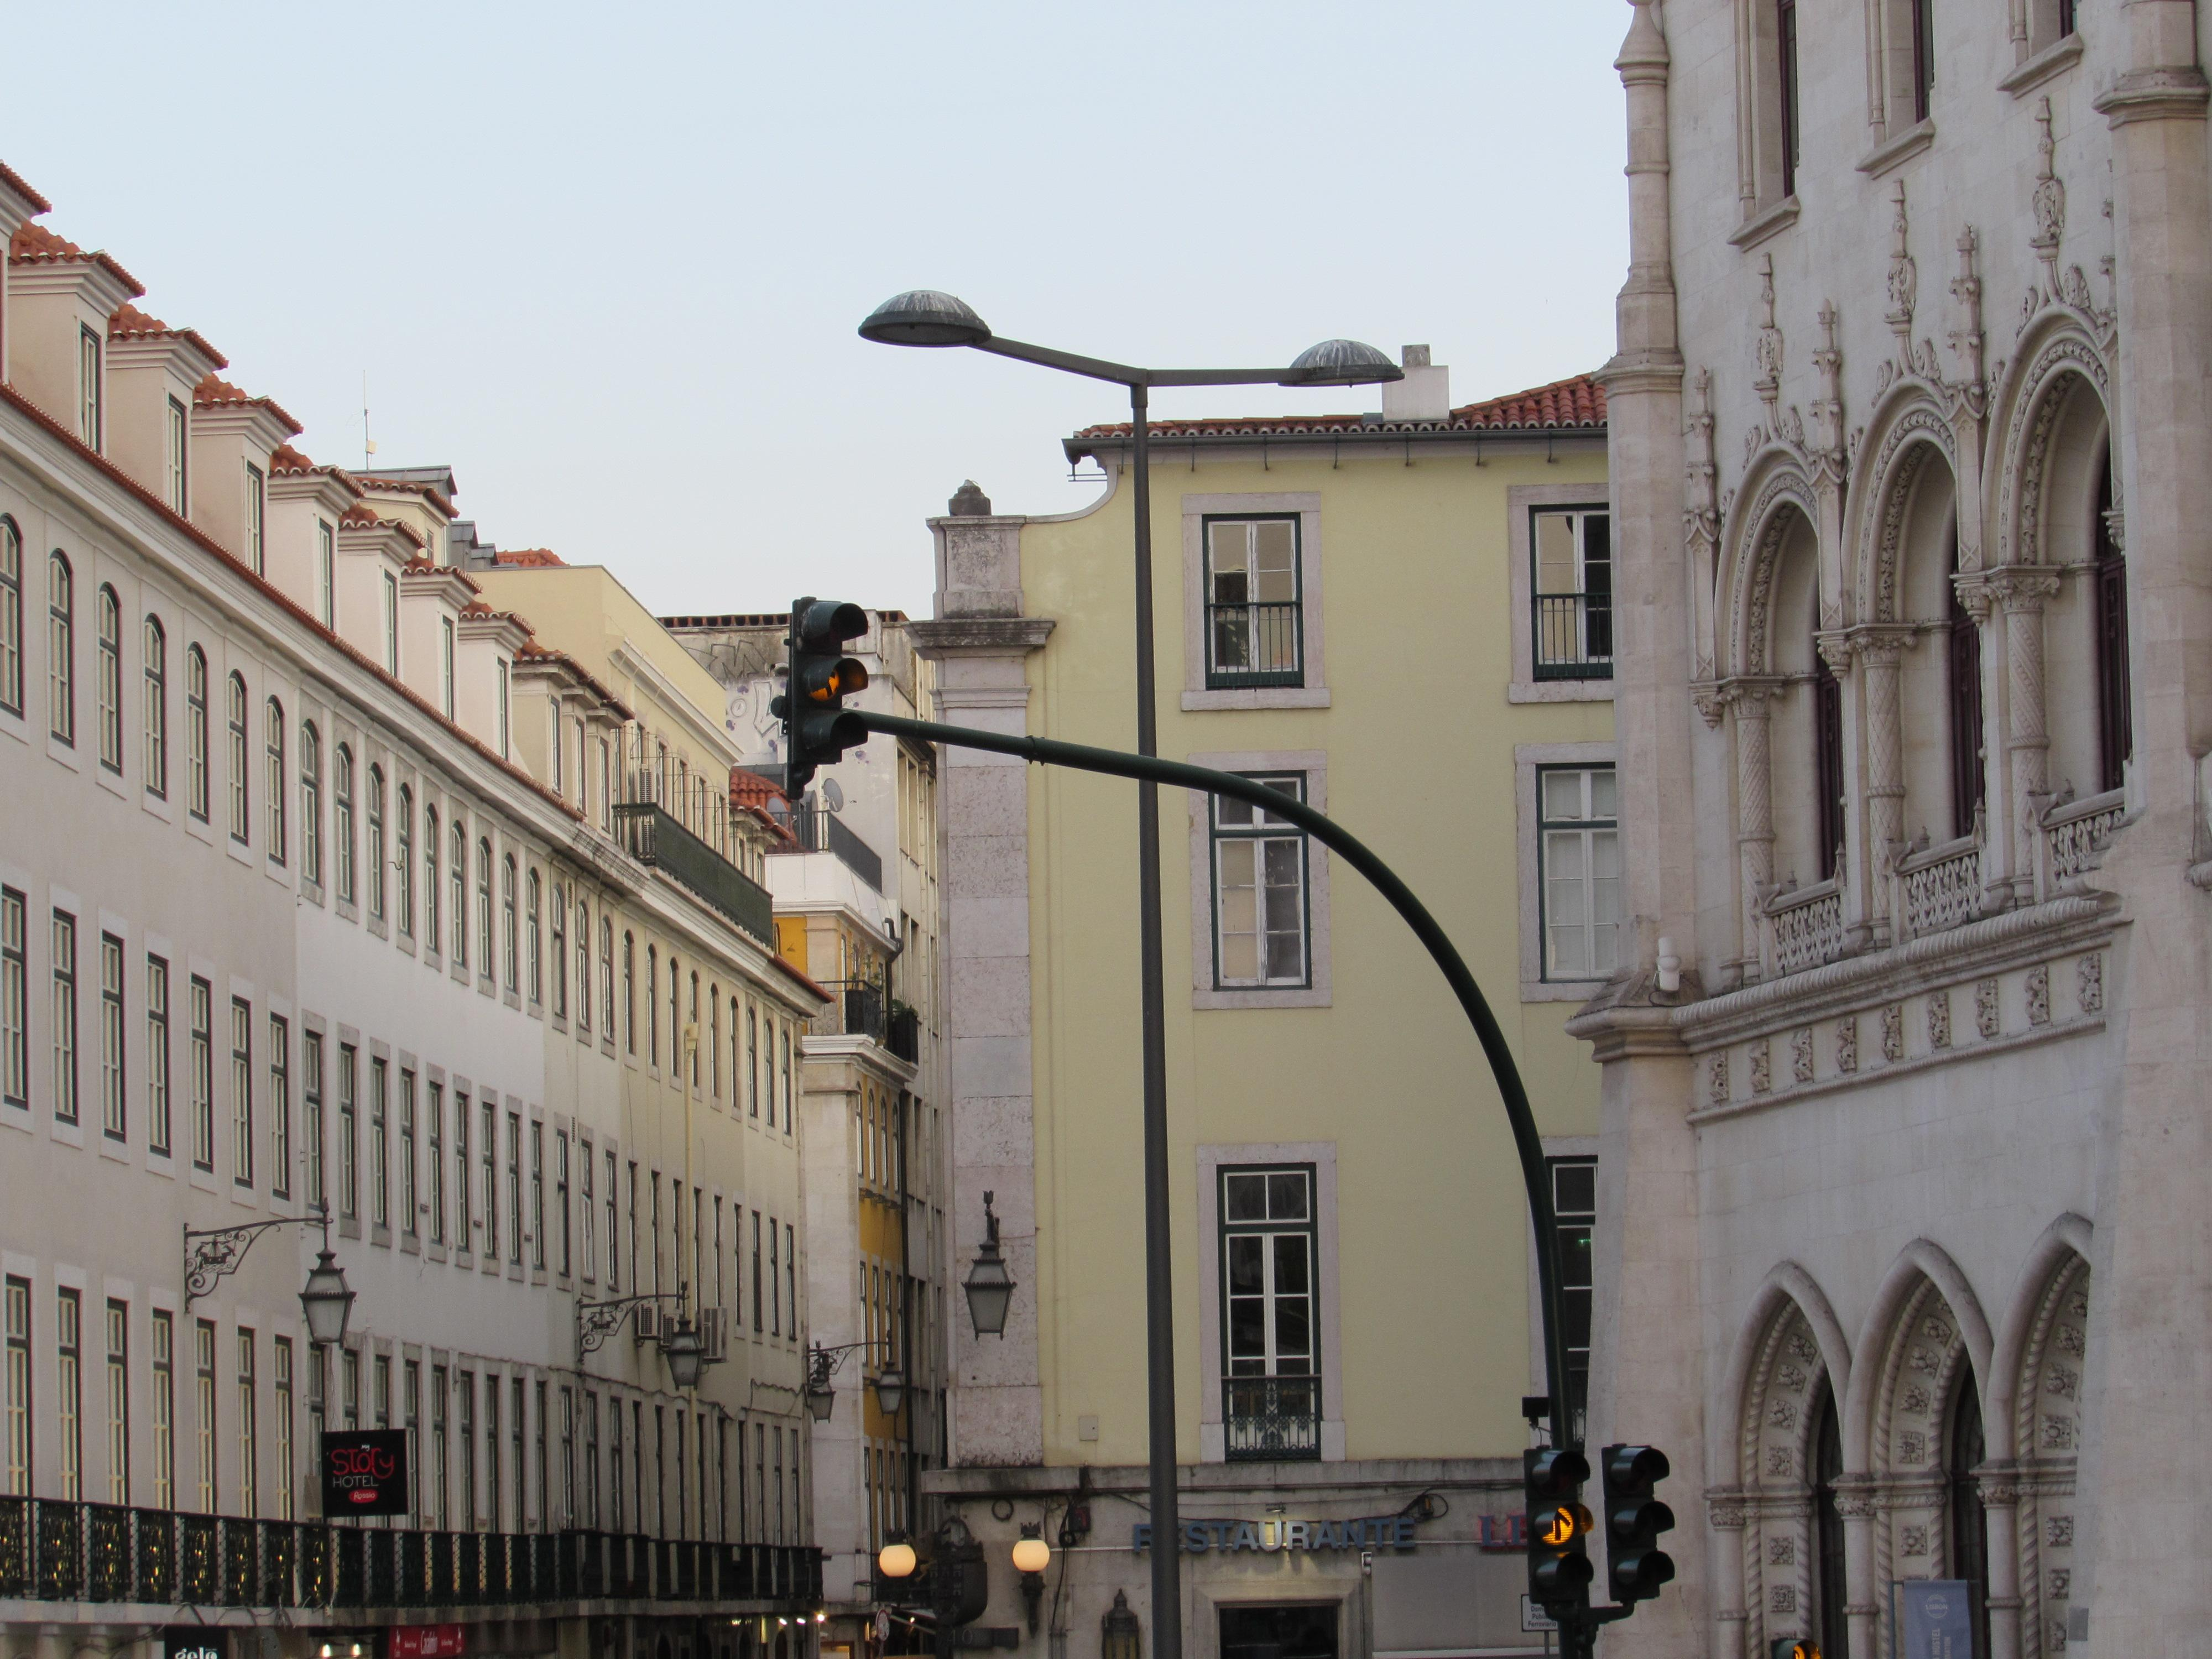yellow_light: (787, 599, 869, 765), (1524, 1448, 1594, 1603)
